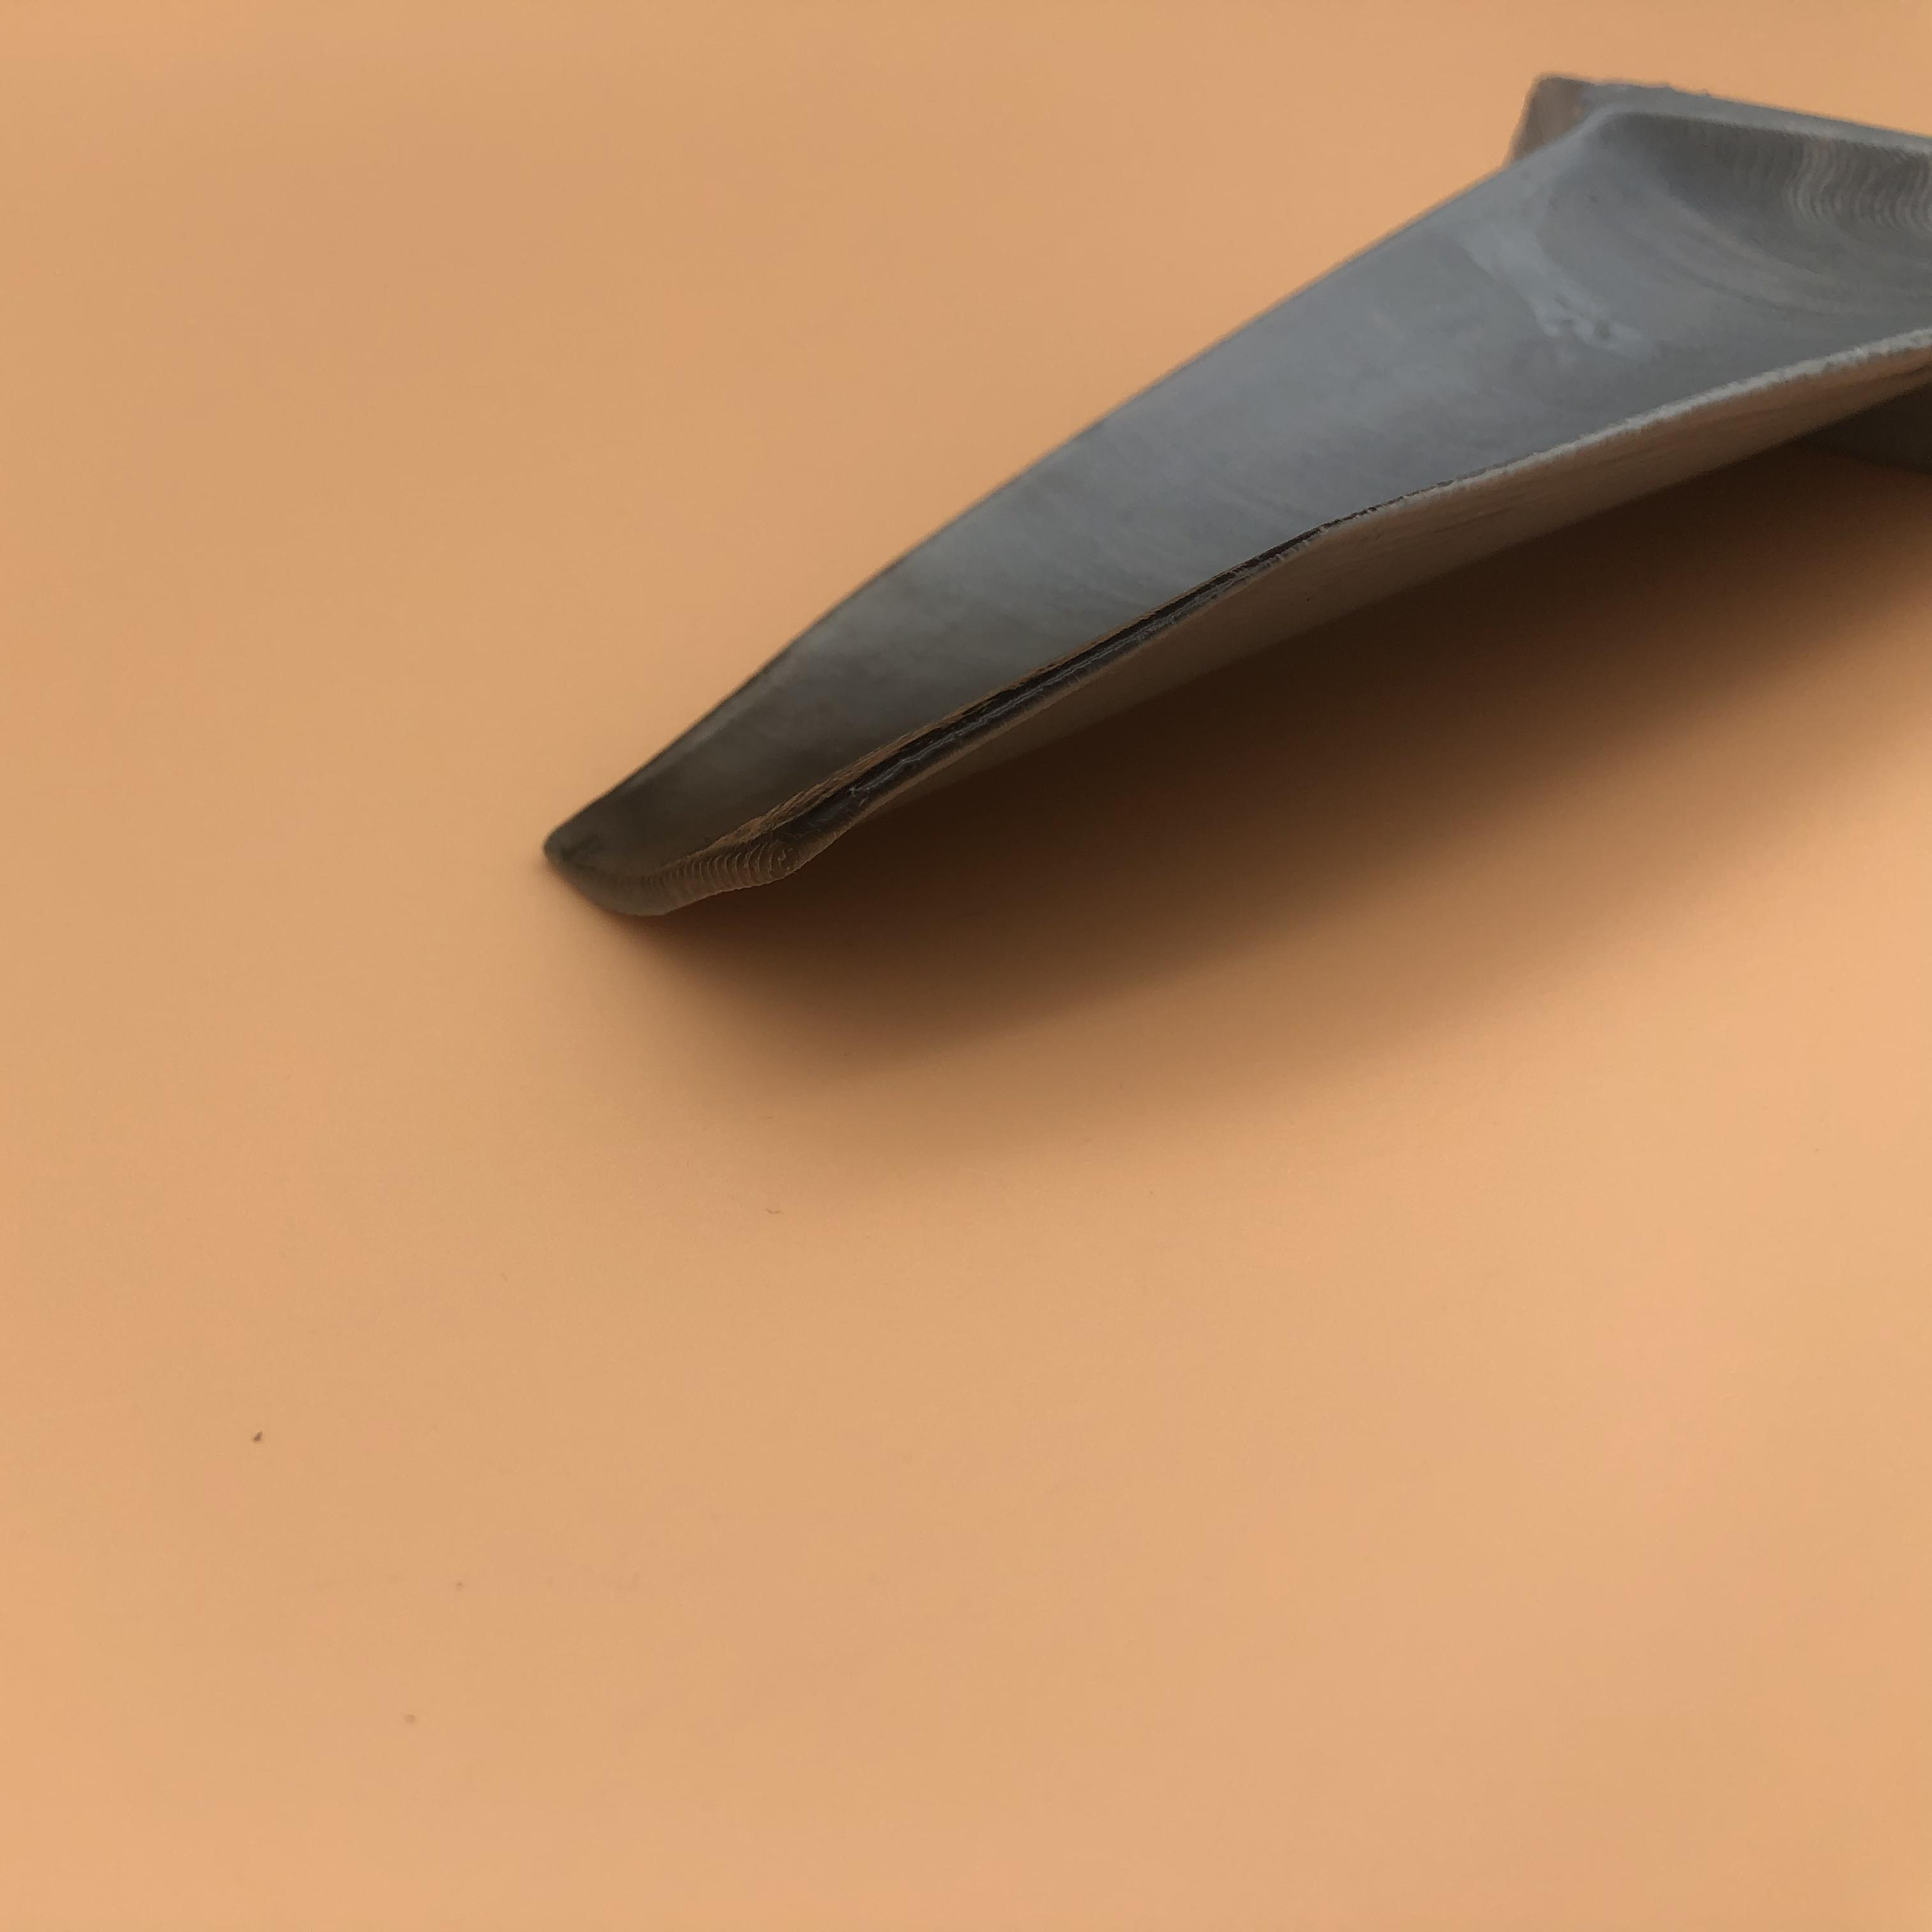ablation: (570, 672, 1065, 888)
